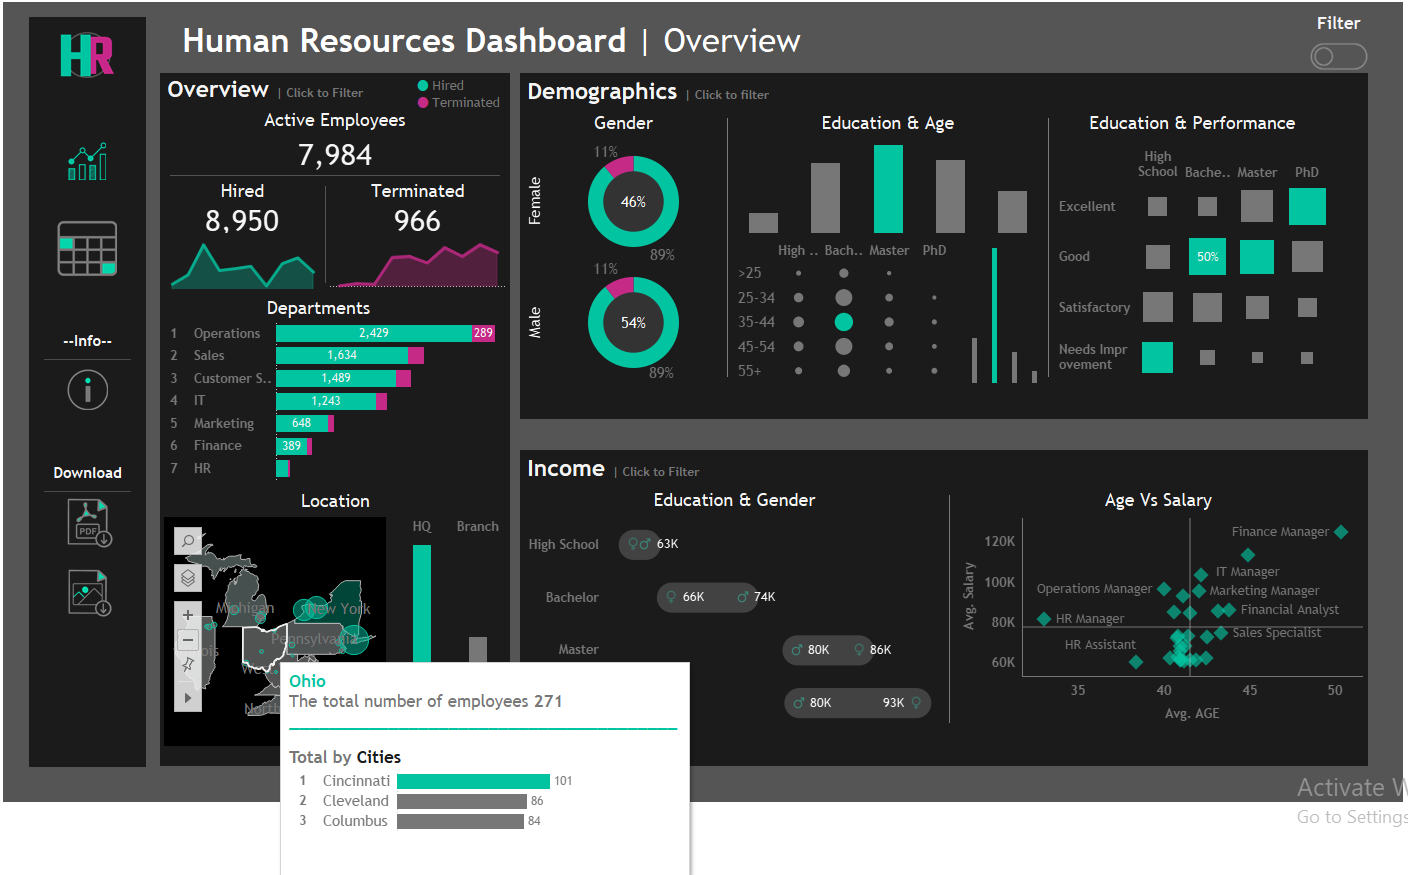

What the dashboard file says about the page in this screenshot:
{"tool":"tableau","page":{"name":"HR | Summary (3)","canvas":[1400,800],"ordinal":3},"visuals":[{"type":"blank","box":[7,7,130,393]},{"type":"text","box":[143,7,676,64]},{"type":"blank","box":[819,7,536,64]},{"type":"text","box":[149,77,352,32]},{"type":"text","box":[509,79,838,35]},{"type":"text","box":[149,109,352,29]},{"type":"text","box":[511,116,207,29]},{"type":"blank","box":[718,116,25,246]},{"type":"text","box":[743,116,261,29]},{"type":"blank","box":[1004,116,25,246]},{"type":"text","box":[1029,116,316,29]},{"type":"worksheet","title":"Active","mark":"Text","box":[149,138,352,41]},{"type":"worksheet","title":"Gender","mark":"Pie","rows":["Gender"],"cols":["Calculation_1937110846429085710","Calculation_1937110846429085710"],"box":[511,145,207,217]},{"type":"worksheet","title":"Age Group","mark":"Bar","rows":["Calculation_1937110846402056192"],"cols":["Calculation_1937110846440509456"],"box":[743,145,261,100]},{"type":"worksheet","title":"Education VS Performance","mark":"Square","rows":["Performance Rating"],"cols":["Education Level"],"box":[1029,145,316,217]},{"type":"blank","box":[149,179,352,25]},{"type":"text","box":[151,206,165,29]},{"type":"blank","box":[316,206,17,113]},{"type":"text","box":[333,206,166,29]},{"type":"worksheet","title":"HIRED","mark":"Text","box":[151,235,165,32]},{"type":"worksheet","title":"Terminated","mark":"Text","box":[333,235,166,32]},{"type":"worksheet","title":"Age VS Education","mark":"Pie","rows":["Calculation_1937110846440509456"],"cols":["Education Level"],"box":[743,245,152.5,117]},{"type":"worksheet","title":"Education Level","mark":"Bar","rows":["Calculation_1937110846402056192"],"cols":["Education Level"],"box":[895.5,245,108.5,117]},{"type":"worksheet","title":"Hired by Years","mark":"Line","rows":["Calculation_1937110846402056192","Calculation_1937110846402056192"],"cols":["Hiredate"],"box":[151,267,165,52]},{"type":"worksheet","title":"Terminated by Years","mark":"Line","rows":["Calculation_1937110846402326529","Calculation_1937110846402326529"],"cols":["Termdate"],"box":[333,267,166,52]},{"type":"blank","box":[149,321,118.7,25]},{"type":"text","box":[267.7,321,114.7,25]},{"type":"blank","box":[382.3,321,118.7,25]},{"type":"worksheet","title":"Departments","mark":"Bar","rows":["Calculation_1937110846415405062","Department"],"cols":["Calculation_1937110846402056192"],"box":[149,346,352,166]},{"type":"blank","box":[7,400,130,393]},{"type":"text","box":[509,415,838,35]},{"type":"text","box":[511,452,410.5,29]},{"type":"blank","box":[921.5,452,25,220]},{"type":"text","box":[946.5,452,398.5,29]},{"type":"worksheet","title":"Education VS Gender Level","mark":"Square","rows":["Education Level"],"cols":["Salary","Salary"],"box":[511,481,410.5,191]},{"type":"worksheet","title":"Age VS Salary","mark":"Shape","rows":["Salary"],"cols":["Calculation_1937110846439919631"],"box":[946.5,481,398.5,191]},{"type":"blank","box":[149,512,120,24]},{"type":"text","box":[269,512,112,24]},{"type":"blank","box":[381,512,120,24]},{"type":"worksheet","title":"MAP STATE","mark":"Automatic","box":[149,536,292,222]},{"type":"worksheet","title":"Location","mark":"Bar","rows":["Calculation_1937110846402056192"],"cols":["Calculation_1937110846422126599","Calculation1"],"box":[441,536,60,222]}]}

Visuals, with their boxes on the page's 1400x800 design canvas (x1, y1, x2, y2). These are canvas units, not pixel positions in the 1408x875 screenshot, which may show the page scaled, cropped or inside an application window:
blank: locate(7, 7, 137, 400)
text: locate(143, 7, 819, 71)
blank: locate(819, 7, 1355, 71)
text: locate(149, 77, 501, 109)
text: locate(509, 79, 1347, 114)
text: locate(149, 109, 501, 138)
text: locate(511, 116, 718, 145)
blank: locate(718, 116, 743, 362)
text: locate(743, 116, 1004, 145)
blank: locate(1004, 116, 1029, 362)
text: locate(1029, 116, 1345, 145)
"Active" worksheet (Text marks): locate(149, 138, 501, 179)
"Gender" worksheet (Pie marks): locate(511, 145, 718, 362)
"Age Group" worksheet (Bar marks): locate(743, 145, 1004, 245)
"Education VS Performance" worksheet (Square marks): locate(1029, 145, 1345, 362)
blank: locate(149, 179, 501, 204)
text: locate(151, 206, 316, 235)
blank: locate(316, 206, 333, 319)
text: locate(333, 206, 499, 235)
"HIRED" worksheet (Text marks): locate(151, 235, 316, 267)
"Terminated" worksheet (Text marks): locate(333, 235, 499, 267)
"Age VS Education" worksheet (Pie marks): locate(743, 245, 896, 362)
"Education Level" worksheet (Bar marks): locate(896, 245, 1004, 362)
"Hired by Years" worksheet (Line marks): locate(151, 267, 316, 319)
"Terminated by Years" worksheet (Line marks): locate(333, 267, 499, 319)
blank: locate(149, 321, 268, 346)
text: locate(268, 321, 382, 346)
blank: locate(382, 321, 501, 346)
"Departments" worksheet (Bar marks): locate(149, 346, 501, 512)
blank: locate(7, 400, 137, 793)
text: locate(509, 415, 1347, 450)
text: locate(511, 452, 922, 481)
blank: locate(922, 452, 946, 672)
text: locate(946, 452, 1345, 481)
"Education VS Gender Level" worksheet (Square marks): locate(511, 481, 922, 672)
"Age VS Salary" worksheet (Shape marks): locate(946, 481, 1345, 672)
blank: locate(149, 512, 269, 536)
text: locate(269, 512, 381, 536)
blank: locate(381, 512, 501, 536)
"MAP STATE" worksheet: locate(149, 536, 441, 758)
"Location" worksheet (Bar marks): locate(441, 536, 501, 758)
